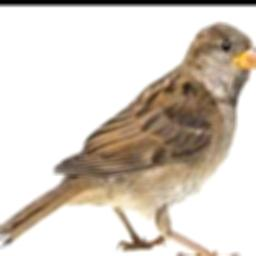Sparrow: (0, 23, 256, 256)
